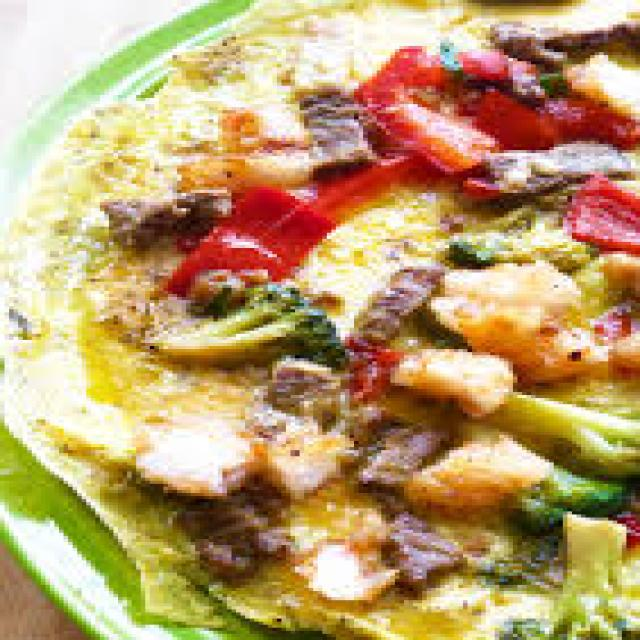inorganic: (19, 19, 635, 625)
